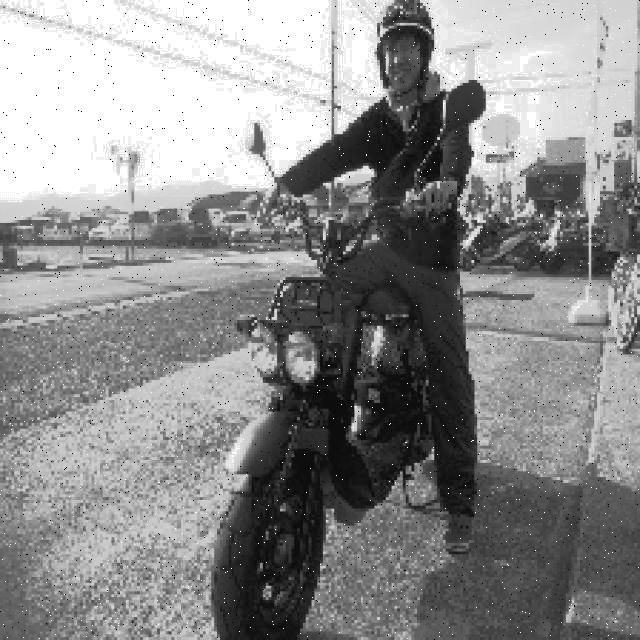Bike: (206, 145, 454, 611)
